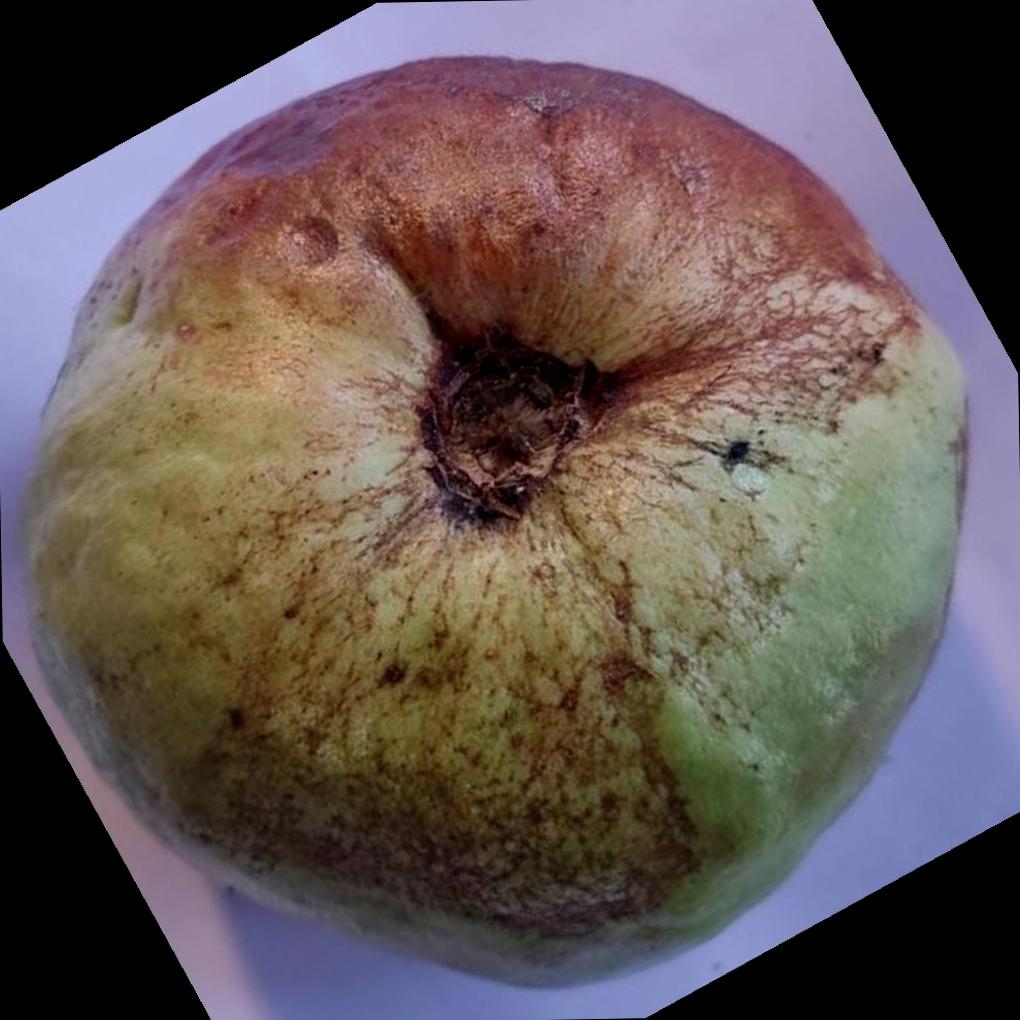FreshOrange: (21, 58, 969, 992)
